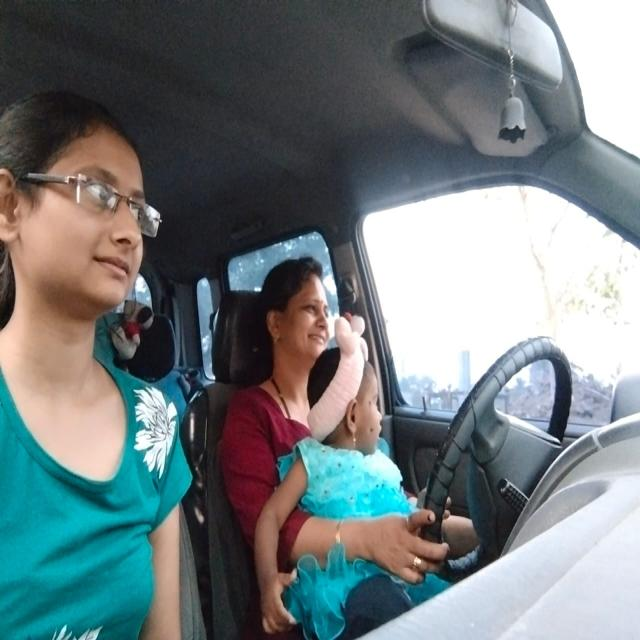child: (304, 334, 395, 454)
person: (0, 87, 162, 325), (256, 252, 342, 370)
